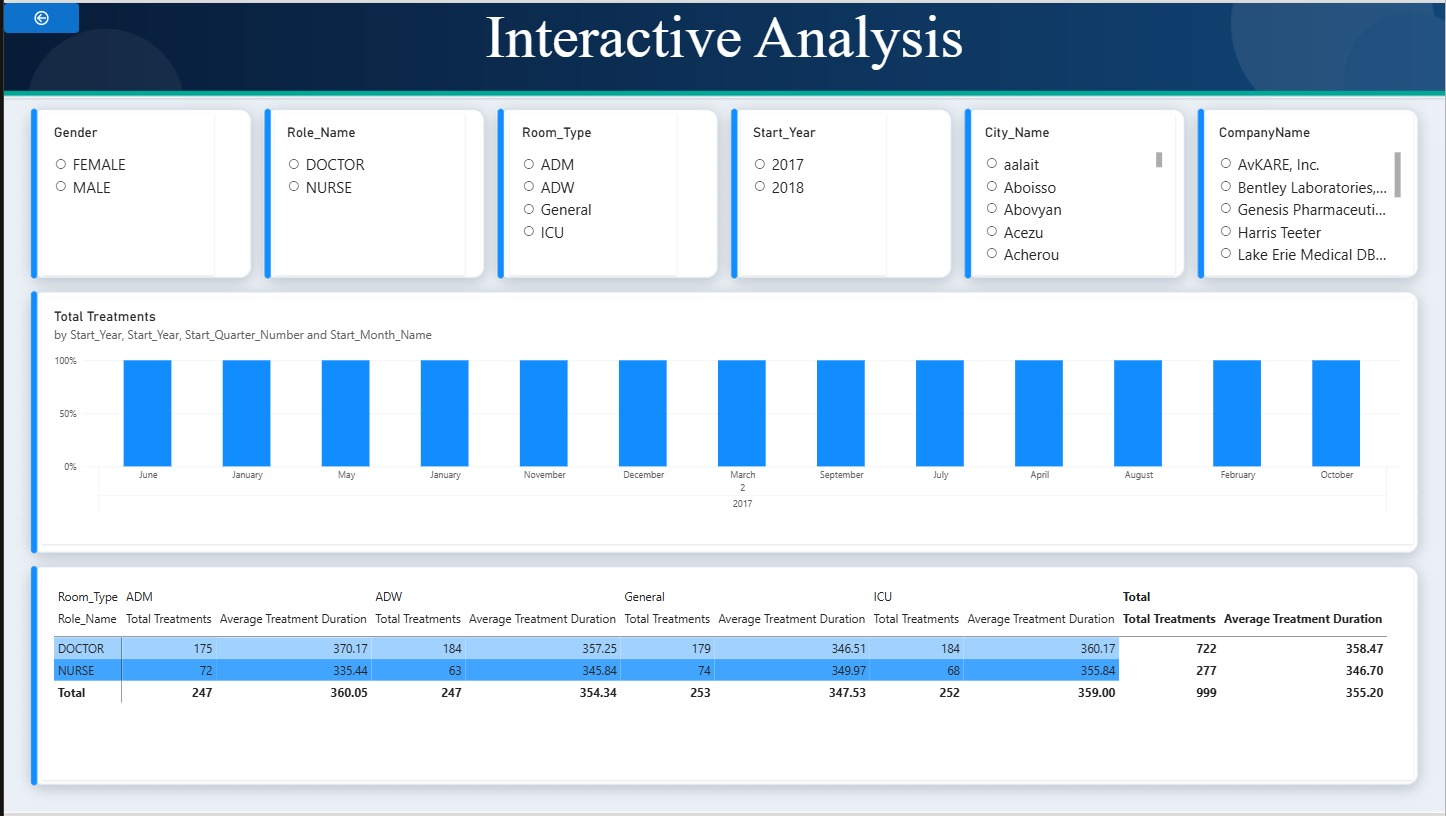

The dashboard page shown, as its layout file describes it:
{"tool":"powerbi","page":{"name":"Interactive Analysis","canvas":[1920,1080],"ordinal":2},"visuals":[{"type":"listSlicer","fields":{"Values":["BI vw_TreatmentAnalysis.Gender"]},"box":[50.3,147.7,229.4,215.3],"z":0},{"type":"listSlicer","fields":{"Values":["BI vw_TreatmentAnalysis.Role_Name"]},"box":[361.4,147.7,253,215.3],"z":1000},{"type":"listSlicer","fields":{"Values":["BI vw_TreatmentAnalysis.Room_Type"]},"box":[674,147.7,221.5,215.3],"z":2000},{"type":"listSlicer","fields":{"Values":["BI vw_TreatmentAnalysis.Start_Year"]},"box":[982,147.7,193.3,215.3],"z":3000},{"type":"listSlicer","fields":{"Values":["BI vw_TreatmentAnalysis.City_Name"]},"box":[1291.5,147.7,268.7,215.3],"z":4000},{"type":"listSlicer","fields":{"Values":["BI vw_MedicationAnalysis.CompanyName"]},"box":[1602.6,147.7,275,215.3],"z":5000},{"type":"hundredPercentStackedColumnChart","fields":{"Category":["BI vw_TreatmentAnalysis.Start_Year","BI vw_TreatmentAnalysis.Start_Year Hierarchy.Start_Year","BI vw_TreatmentAnalysis.Start_Year Hierarchy.Start_Quarter_Number","BI vw_TreatmentAnalysis.Start_Year Hierarchy.Start_Month_Name"],"Y":["BI vw_TreatmentAnalysis.Total Treatments"]},"box":[50.3,392.8,1827.3,328.4],"z":6000},{"type":"actionButton","box":[0,0,100,40],"z":7000},{"type":"pivotTable","fields":{"Columns":["BI vw_TreatmentAnalysis.Room_Type"],"Rows":["BI vw_TreatmentAnalysis.Role_Name"],"Values":["BI vw_TreatmentAnalysis.Total Treatments","BI vw_TreatmentAnalysis.Average Treatment Duration"]},"box":[50.3,762,1827.3,273.4],"z":8000},{"type":"textbox","box":[0,0,1920,126.7],"z":9000}]}

Visuals, with their boxes in screenshot pixels (x1, y1, x2, y2), scaled from the page's 1920x1080 canvas onto the 1446x816 screenshot:
listSlicer - BI vw_TreatmentAnalysis.Gender: {"x1": 38, "y1": 112, "x2": 211, "y2": 274}
listSlicer - BI vw_TreatmentAnalysis.Role_Name: {"x1": 272, "y1": 112, "x2": 463, "y2": 274}
listSlicer - BI vw_TreatmentAnalysis.Room_Type: {"x1": 508, "y1": 112, "x2": 674, "y2": 274}
listSlicer - BI vw_TreatmentAnalysis.Start_Year: {"x1": 740, "y1": 112, "x2": 885, "y2": 274}
listSlicer - BI vw_TreatmentAnalysis.City_Name: {"x1": 973, "y1": 112, "x2": 1175, "y2": 274}
listSlicer - BI vw_MedicationAnalysis.CompanyName: {"x1": 1207, "y1": 112, "x2": 1414, "y2": 274}
hundredPercentStackedColumnChart - BI vw_TreatmentAnalysis.Start_Year x BI vw_TreatmentAnalysis.Start_Year Hierarchy.Start_Year: {"x1": 38, "y1": 297, "x2": 1414, "y2": 545}
actionButton: {"x1": 0, "y1": 0, "x2": 75, "y2": 30}
pivotTable - BI vw_TreatmentAnalysis.Room_Type x BI vw_TreatmentAnalysis.Role_Name: {"x1": 38, "y1": 576, "x2": 1414, "y2": 782}
textbox: {"x1": 0, "y1": 0, "x2": 1445, "y2": 96}
